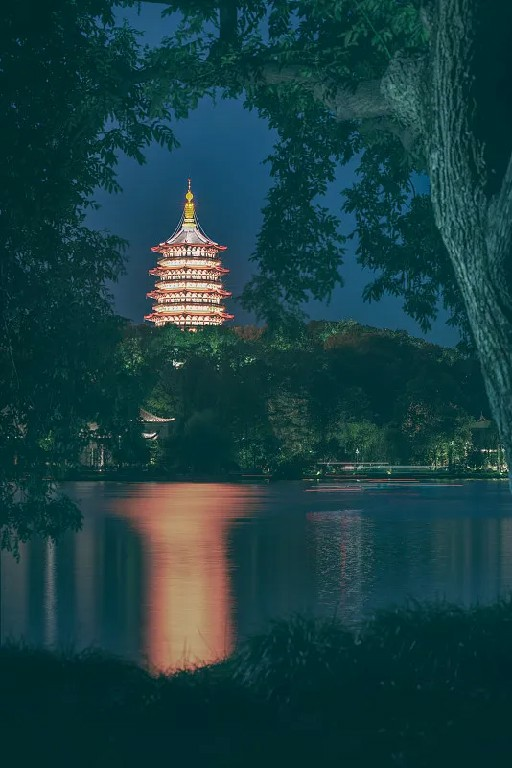Leifeng: (146, 178, 234, 334)
